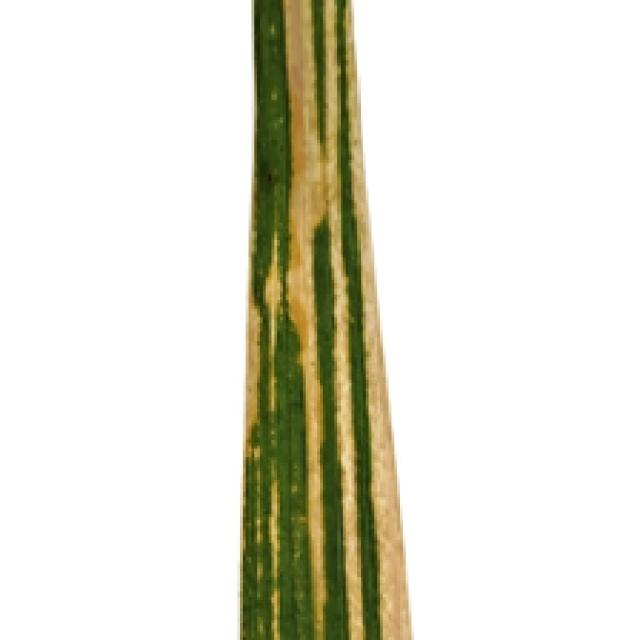Rice___Bacterial_Leaf_Blight: (236, 0, 412, 637)
